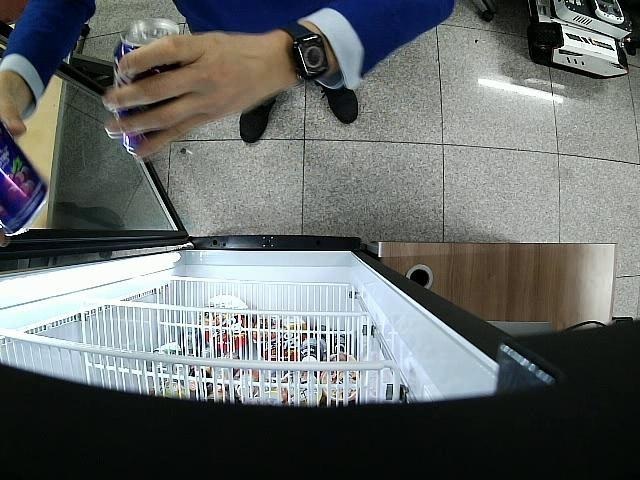14_welchsGrape: (116, 19, 182, 155), (0, 123, 47, 235)
